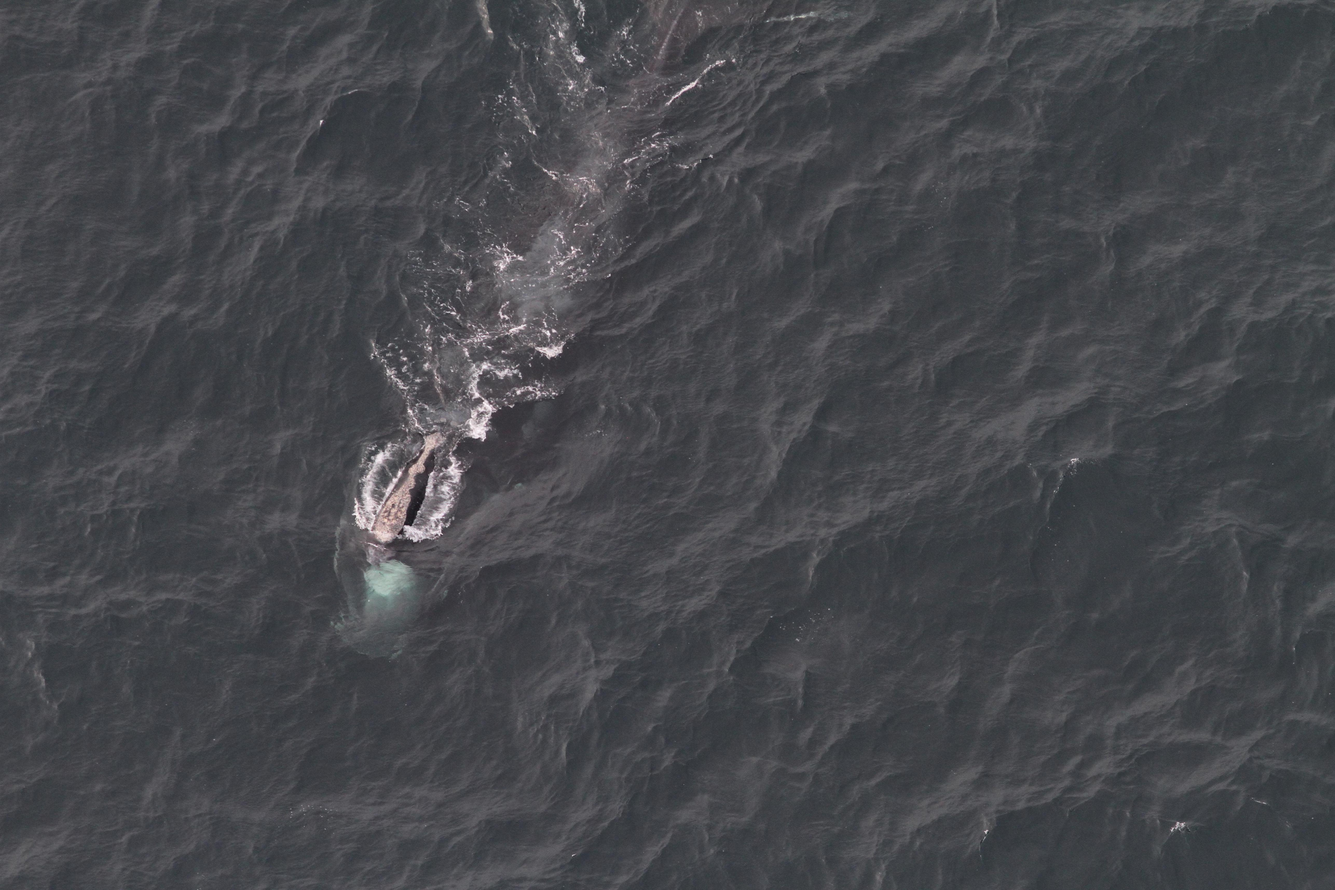whale: (309, 0, 830, 675)
